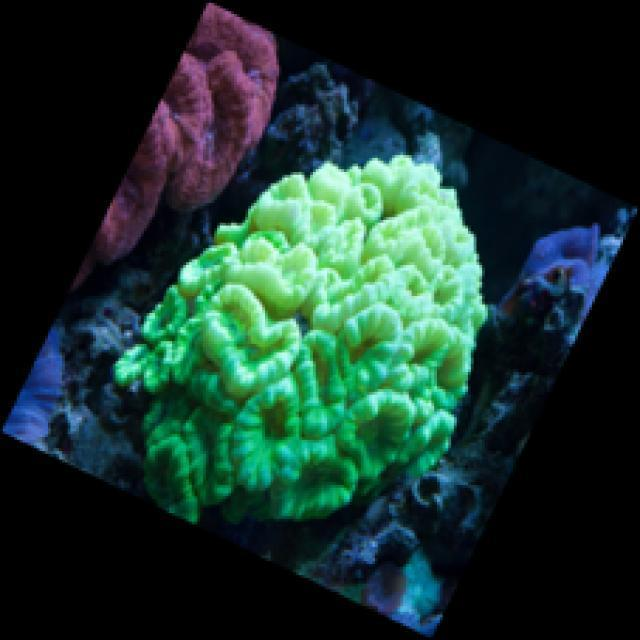Healthy: (114, 155, 493, 526), (69, 1, 288, 287)
